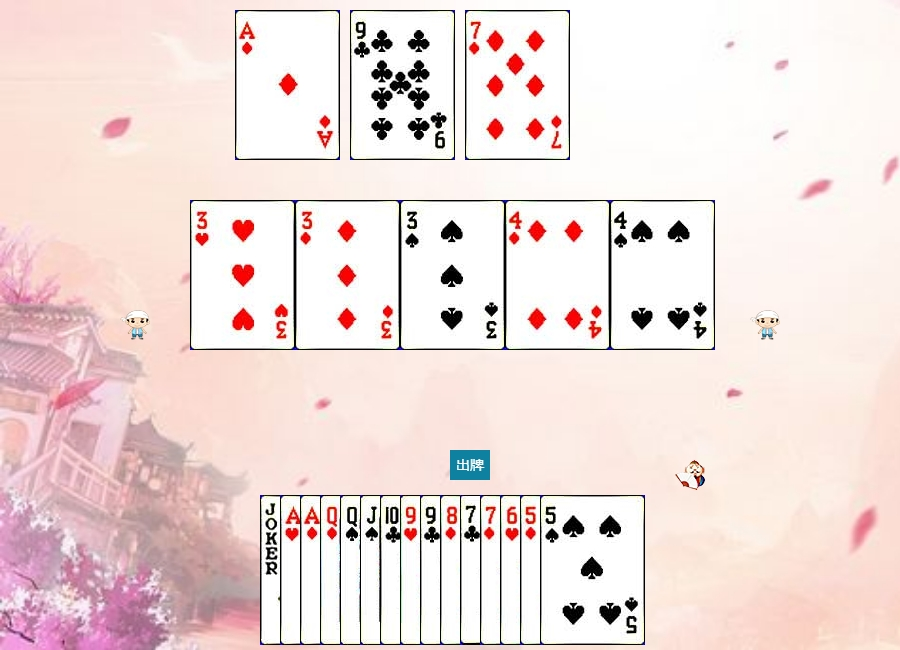10~2: (380, 495, 485, 645)
11~4: (360, 495, 465, 645)
12~1: (320, 495, 425, 645)
12~4: (340, 495, 445, 645)
14~1: (235, 10, 340, 160), (300, 495, 405, 645)
14~3: (280, 495, 385, 645)
17~3: (260, 495, 365, 645)
3~1: (295, 200, 400, 350)
3~3: (190, 200, 295, 350)
3~4: (400, 200, 505, 350)
4~1: (505, 200, 610, 350)
4~4: (610, 200, 715, 350)
5~1: (520, 495, 625, 645)
5~4: (540, 495, 645, 645)
6~3: (500, 495, 605, 645)
7~1: (465, 10, 570, 160), (480, 495, 585, 645)
7~2: (460, 495, 565, 645)
8~1: (440, 495, 545, 645)
9~2: (350, 10, 455, 160), (420, 495, 525, 645)
9~3: (400, 495, 505, 645)
